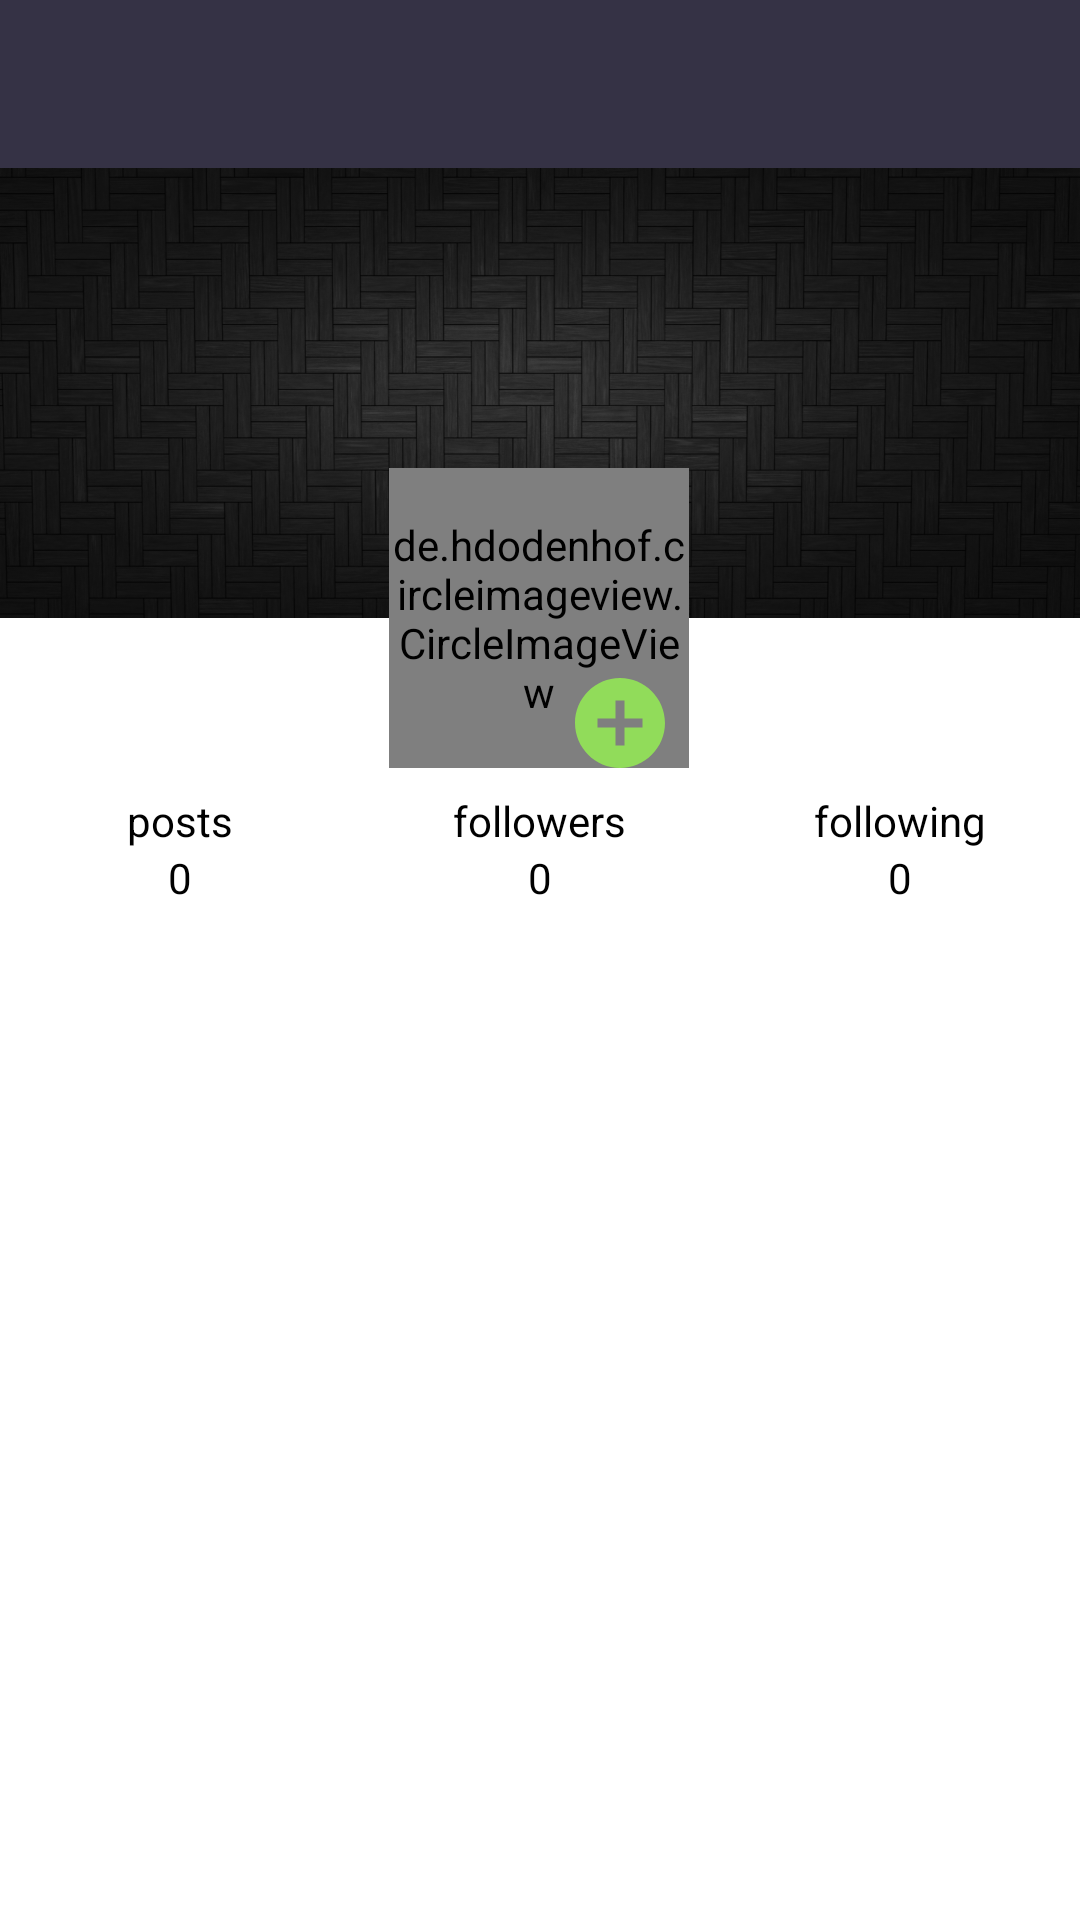

Icon bounding boxes for this 1080 x 1920 phone screenshot, format (x1, y1, x2, y2):
add inside circle: (575, 678, 665, 768)
